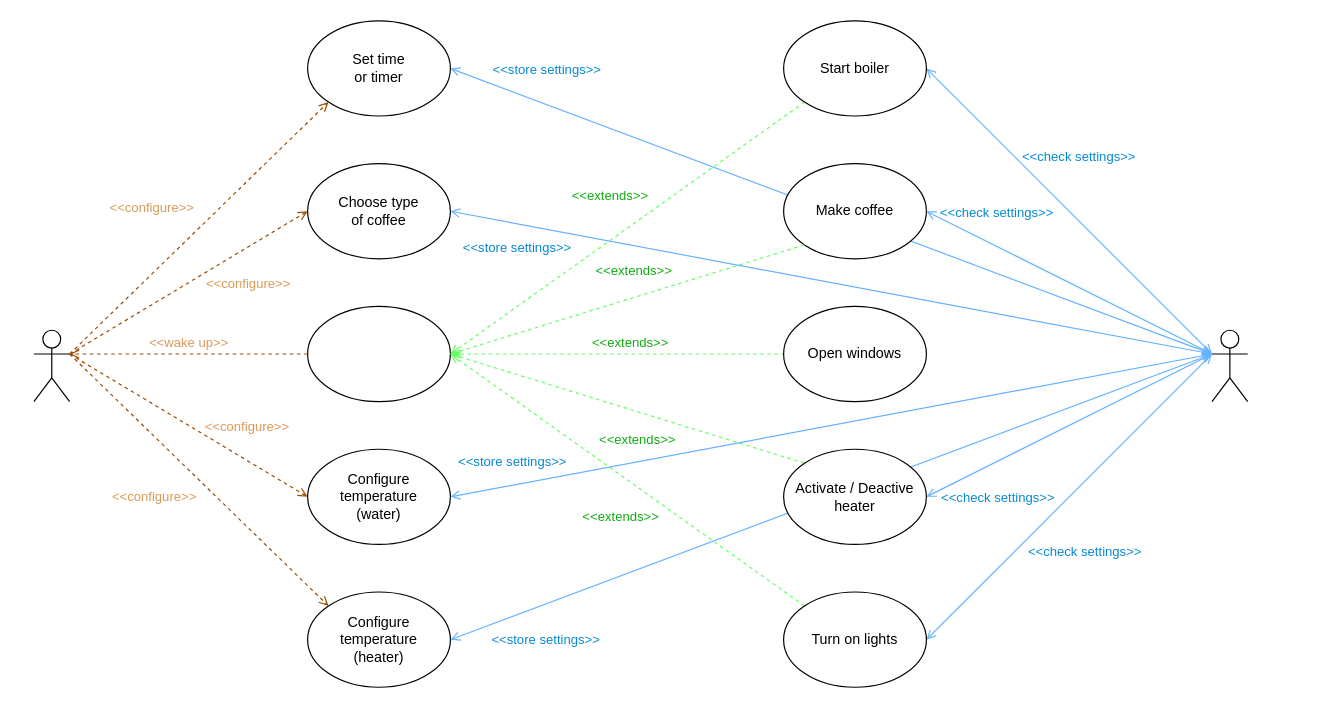
Image size: 1320x708. Some labels were removed from this diagram. Each missing label, with the centre of its shape:
"Residents" goes at [51,365].
"Server (Raspberry Pi)" goes at [1229,365].
"Start routine" goes at [378,353].
